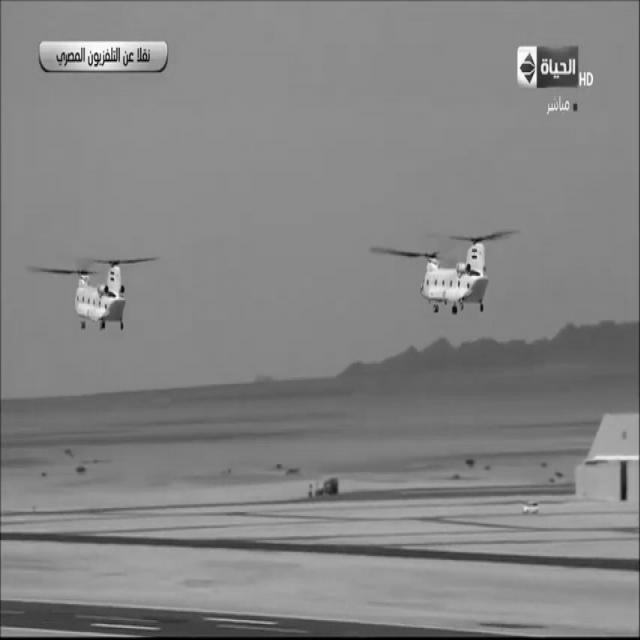helikopter: (384, 216, 524, 330), (42, 233, 156, 349)
